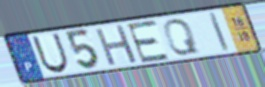5: (62, 26, 101, 71)
E: (125, 19, 172, 65)
H: (93, 23, 140, 68)
I: (207, 10, 232, 53)
Q: (162, 17, 202, 56)
U: (30, 32, 71, 75)
